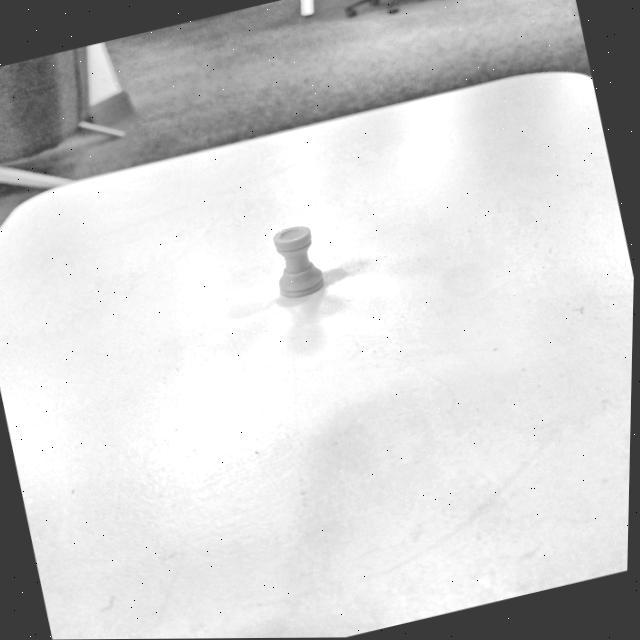white-rook: (271, 226, 323, 300)
